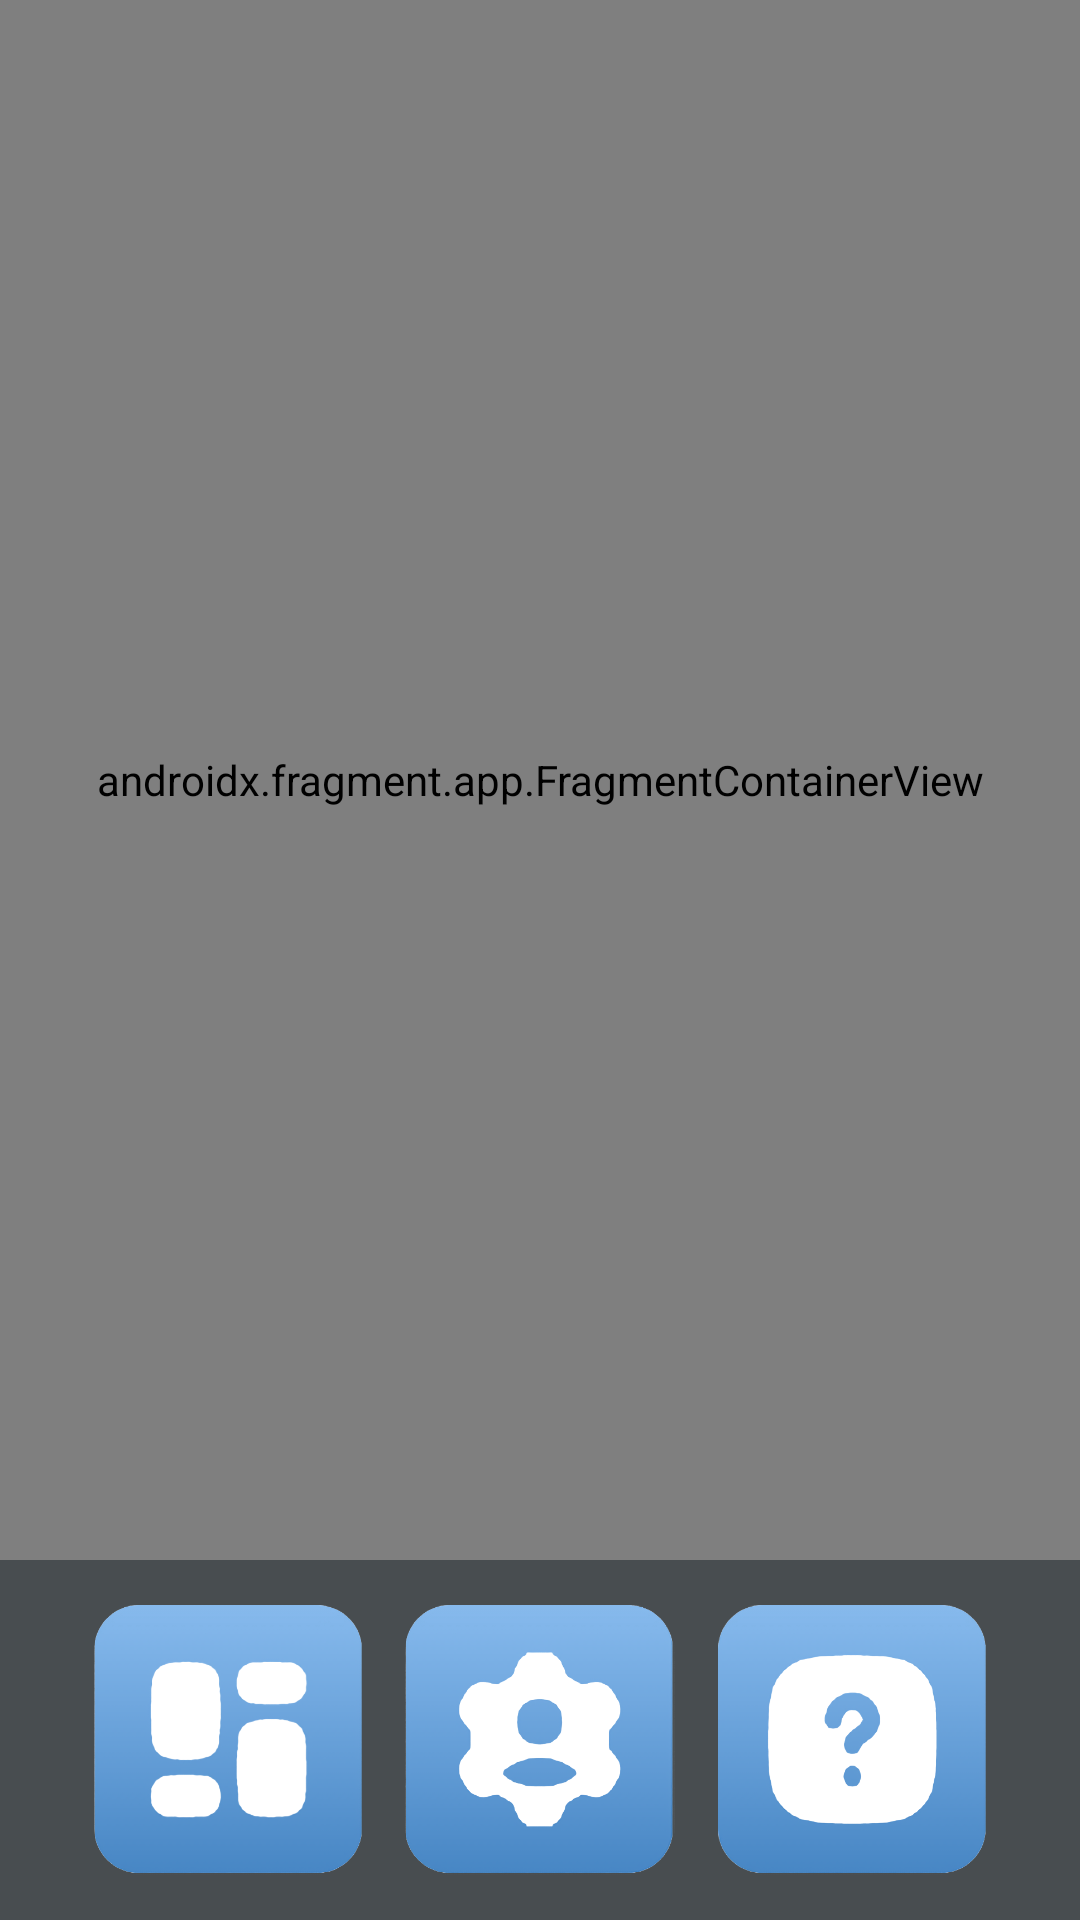

Named icons in this screenshot (1080×1920) and their bounding boxes, (x1, y1, x2, y2):
Configurações: (405, 1605, 673, 1873)
Home: (94, 1605, 362, 1873)
Sobre: (718, 1605, 986, 1873)
